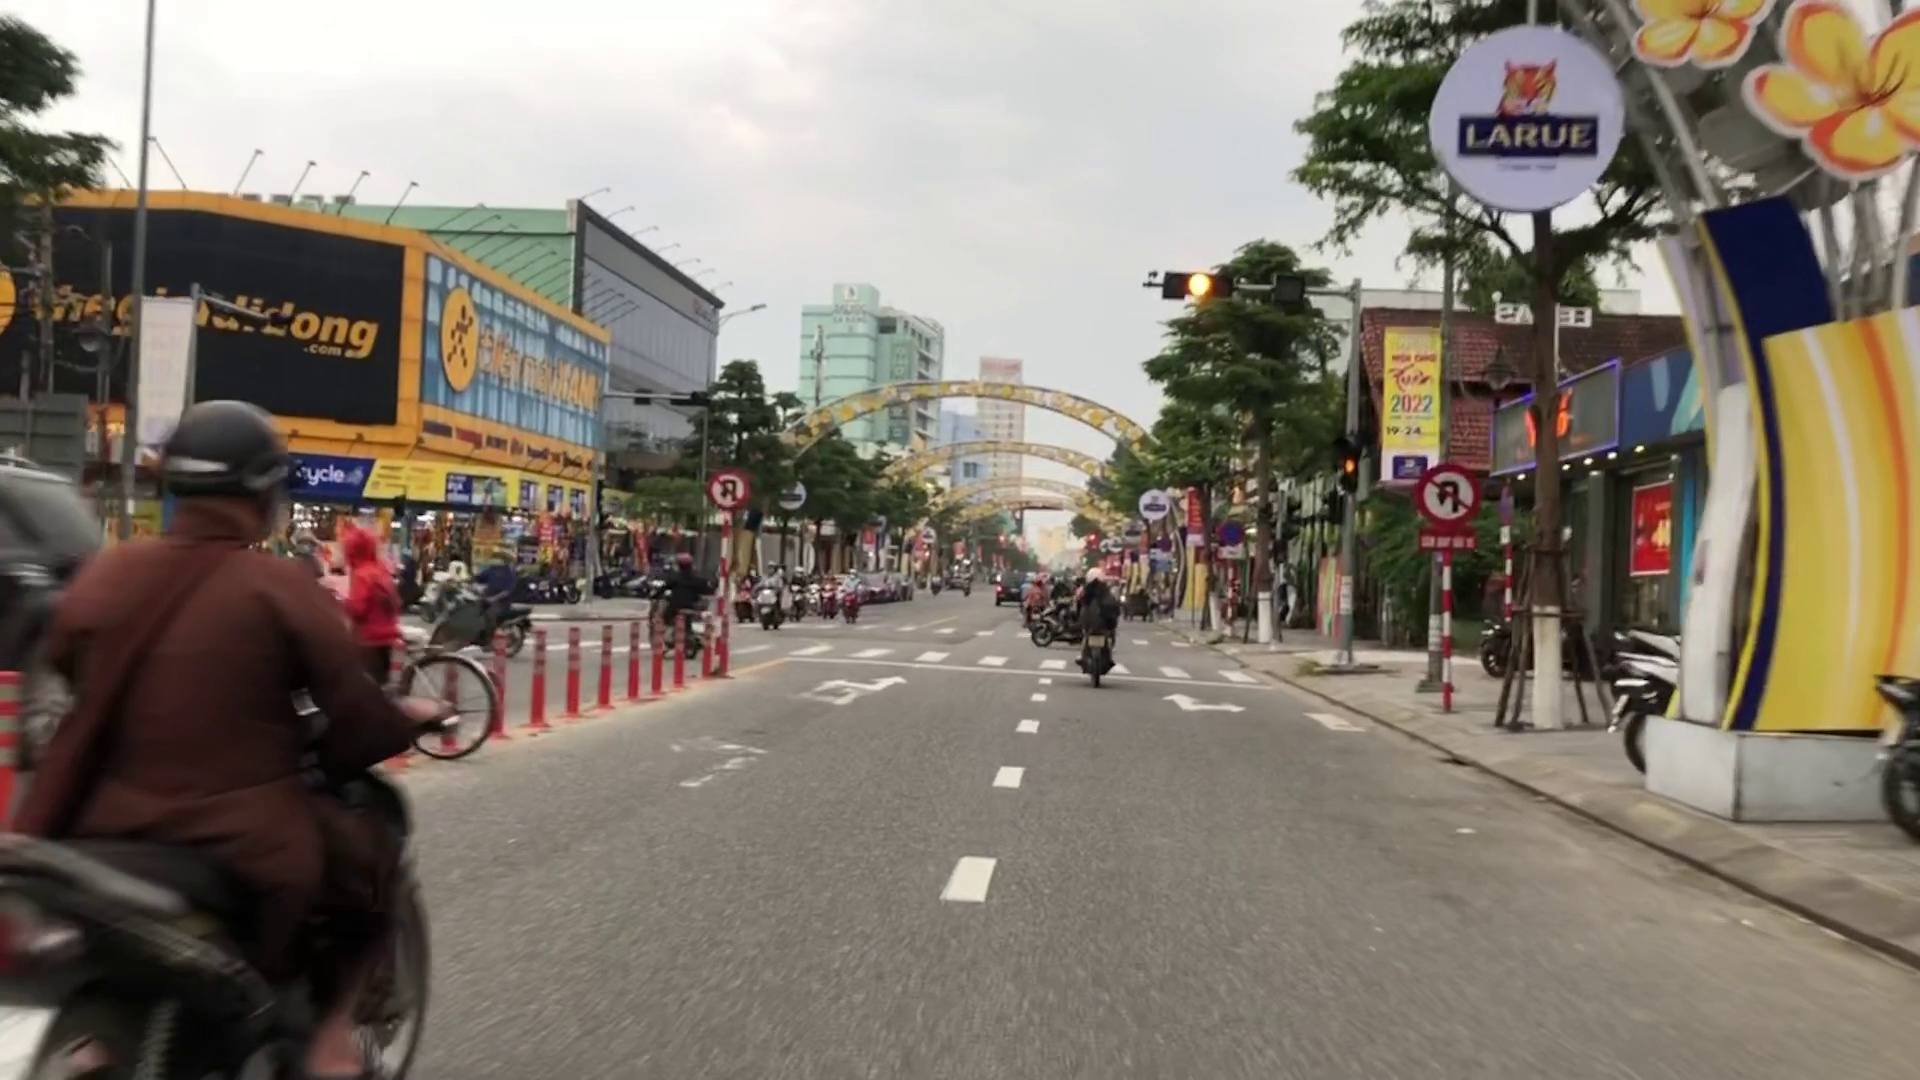Bien khac: (1407, 463, 1482, 530), (713, 471, 745, 510)
Cam do xe: (1218, 513, 1253, 554)
